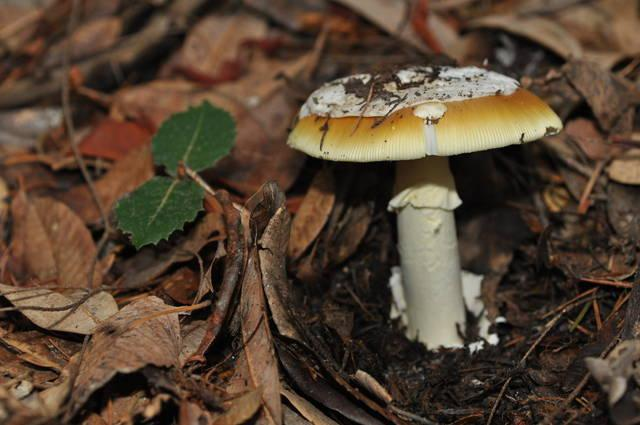Edible Mushroom: (285, 61, 563, 351)
